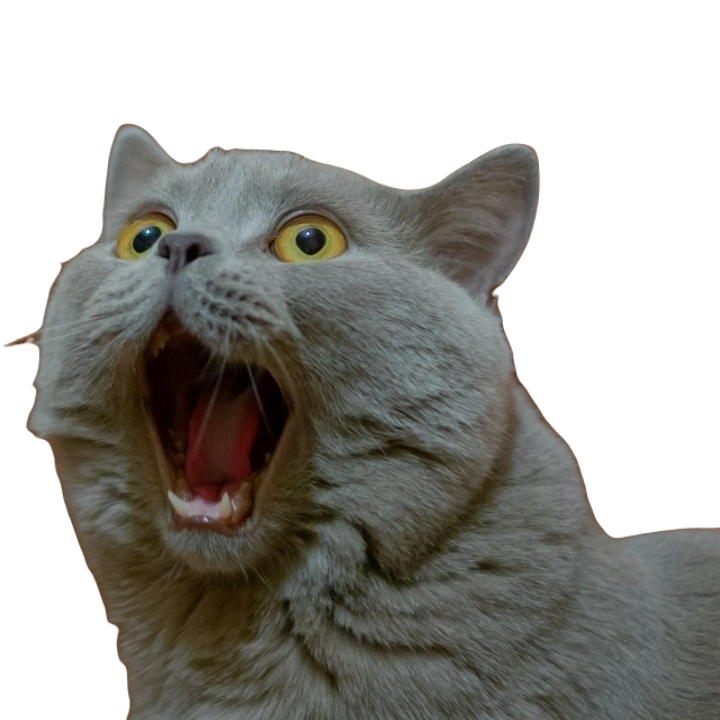Cat: (45, 99, 719, 719)
